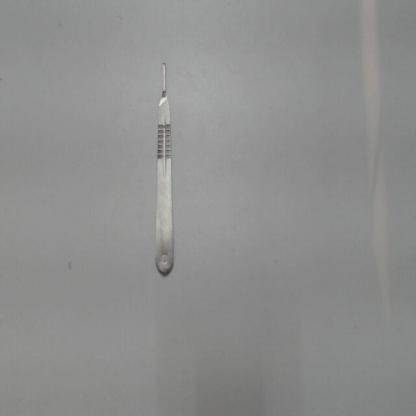No.3 BP Handle: (149, 56, 175, 282)
